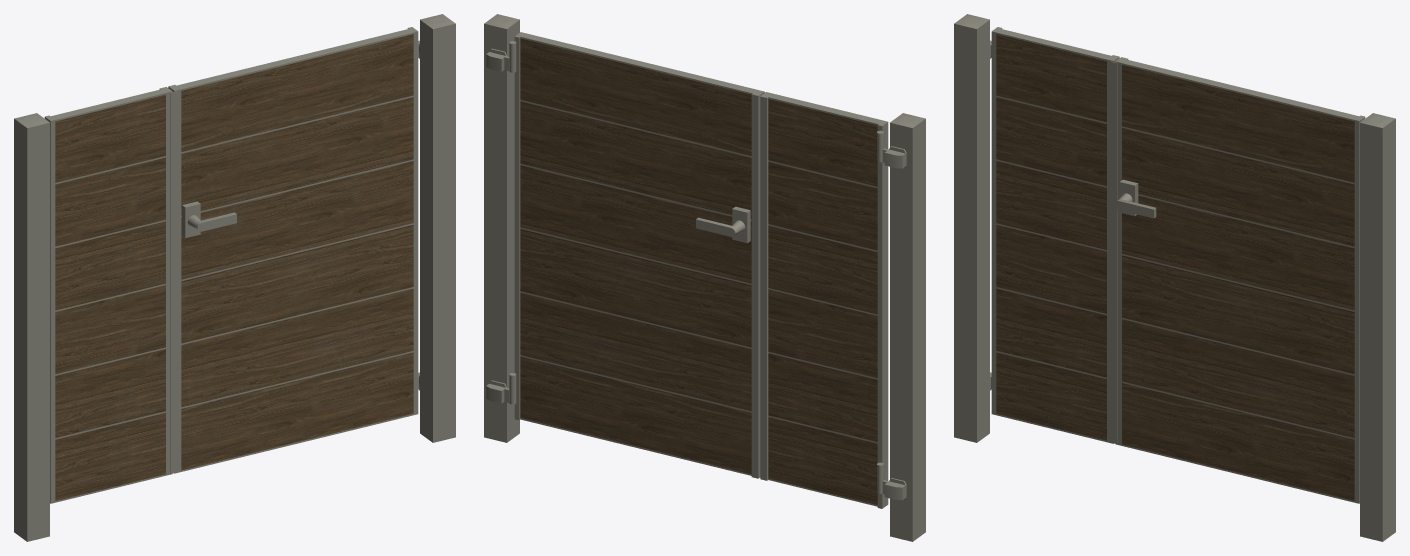
The model's file is 400-800-1200_brownebony.fbx.
3 views of the same model, side by side, from view 1: azimuth 30°, elevation 25°; view 2: azimuth 150°, elevation 25°; view 3: azimuth 330°, elevation 25° (orthographic).
Parts seen in each view (by area): view 1: 400-800-1200brownebony; view 2: 400-800-1200brownebony; view 3: 400-800-1200brownebony.
Boxes of the visible parts, <box> form: 400-800-1200brownebony: <box>14,14,455,541</box>; 400-800-1200brownebony: <box>484,14,925,541</box>; 400-800-1200brownebony: <box>954,14,1395,541</box>.
Bounding box in the file's own units: 141 × 130 × 17.1.
Materials: 2 (2 with a texture image).
